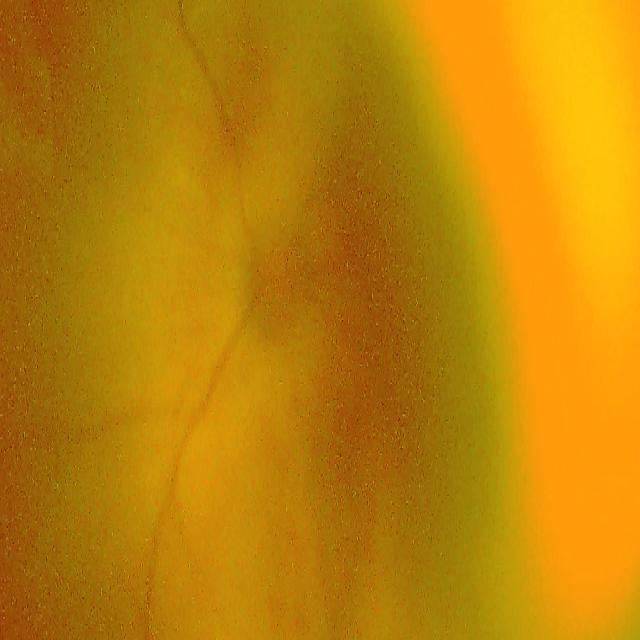optic-nerve: (236, 201, 324, 359)
